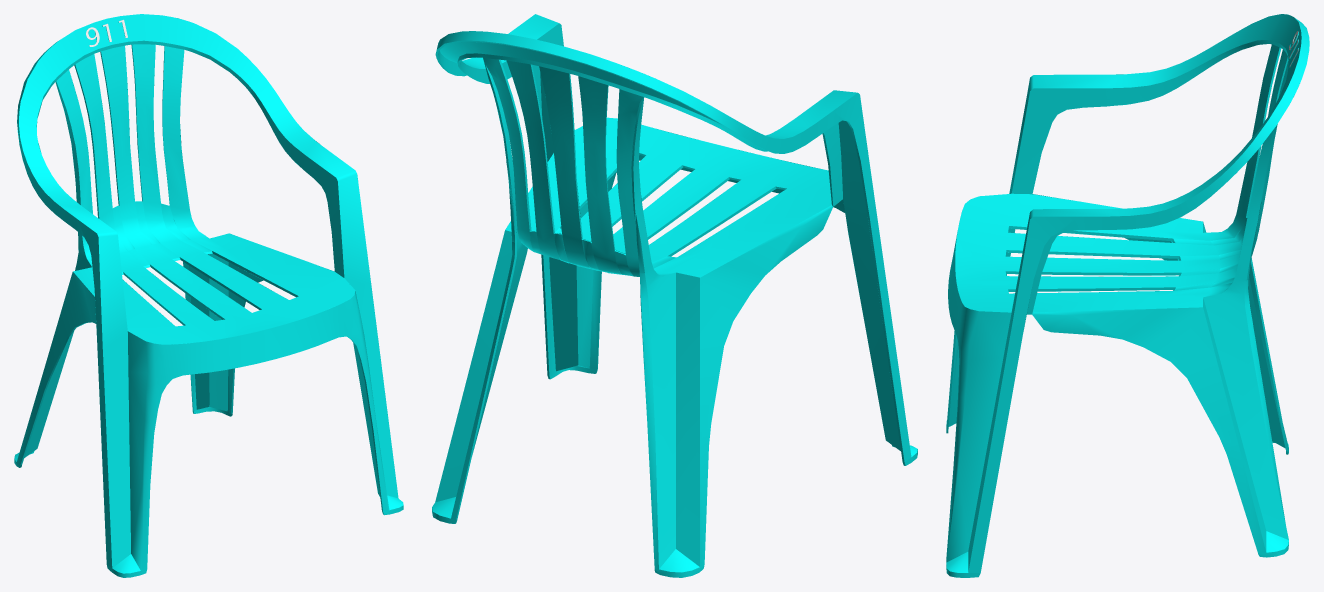
The model's file is plastic-chair-cyan.glb.
3 renders of one model, left to right at view 1: azimuth 30°, elevation 25°; view 2: azimuth 150°, elevation 25°; view 3: azimuth 270°, elevation 25°, orthographic. The views are drawn at different scales.
Visible parts, largest first — view 1: chair_cyan; view 2: chair_cyan; view 3: chair_cyan.
Boxes of the visible parts, x1=… form: chair_cyan: x1=14, y1=14, x2=403, y2=577; chair_cyan: x1=432, y1=14, x2=917, y2=577; chair_cyan: x1=946, y1=14, x2=1309, y2=577.
Size of the model in its own units: 0.5826 by 0.7986 by 0.5697.
